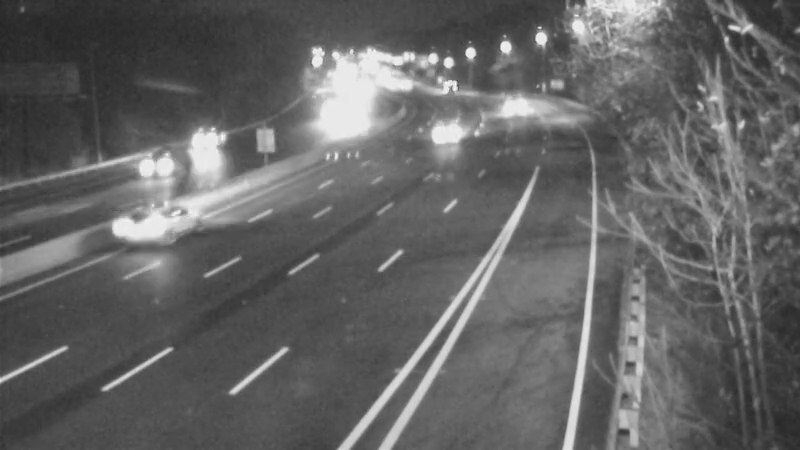vehicle: (112, 188, 192, 268), (99, 129, 179, 209), (423, 62, 473, 112), (483, 84, 533, 134), (422, 114, 472, 164), (182, 122, 232, 172)
